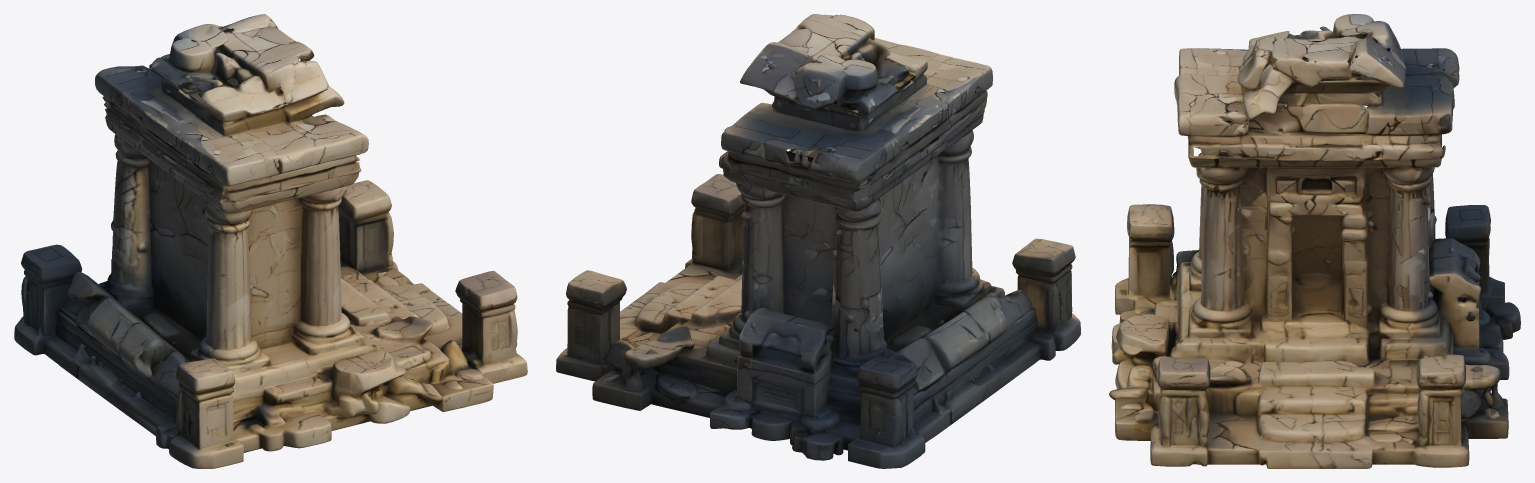
Rendered from building-temple.glb.
The picture shows the model from 3 angles, left to right: view 1: azimuth 30°, elevation 25°; view 2: azimuth 150°, elevation 25°; view 3: azimuth 270°, elevation 25°; orthographic projection. The views are drawn at different scales.
Visible parts, largest first — view 1: tripo_node_770df235-9978-431a-8b1e-c158dac15e4d; view 2: tripo_node_770df235-9978-431a-8b1e-c158dac15e4d; view 3: tripo_node_770df235-9978-431a-8b1e-c158dac15e4d.
Part boxes in pixels (x1,y1,x2,y2): tripo_node_770df235-9978-431a-8b1e-c158dac15e4d: (14, 14, 527, 468); tripo_node_770df235-9978-431a-8b1e-c158dac15e4d: (556, 14, 1080, 468); tripo_node_770df235-9978-431a-8b1e-c158dac15e4d: (1109, 14, 1520, 468).
Bounding box in the file's own units: 8.09 × 8 × 7.84.
1 material, 1 textured.
